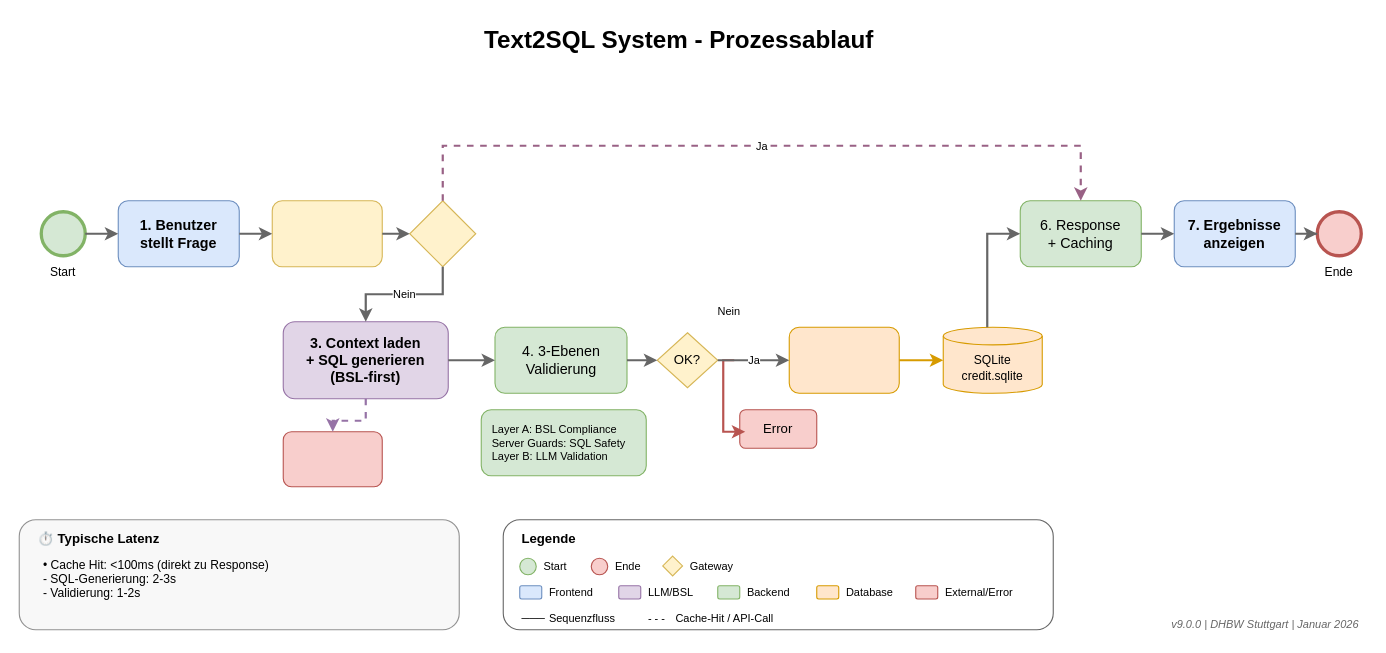
The diagram is 1386 pixels wide and 653 high, and some of its shapes have lost their labels. Here are the shapes that lost their labels. From the top down, the centre of each, then its label:
At (x=326, y=233): "2. Cache prüfen".
At (x=442, y=233): "Hit?".
At (x=843, y=359): "5. SQL ausführen".
At (x=332, y=459): "OpenAI GPT-5.2".
